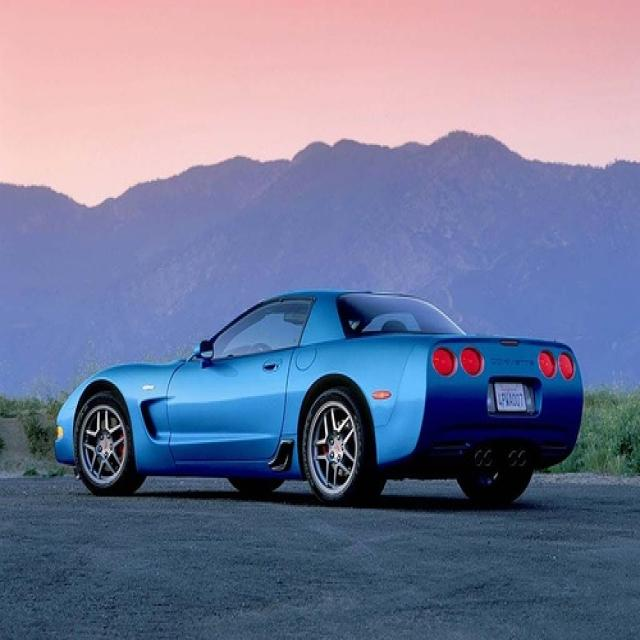car: (50, 284, 591, 516)
